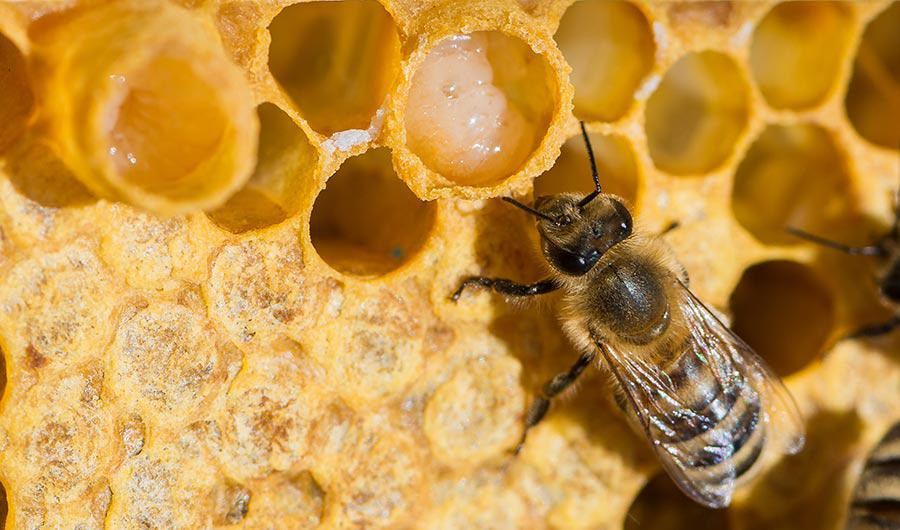bee: (537, 193, 764, 487)
